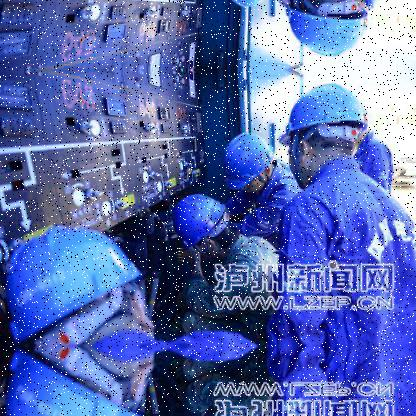Helmet: (2, 224, 168, 343), (0, 340, 166, 415), (272, 84, 372, 197), (283, 0, 381, 69), (164, 184, 242, 269), (212, 127, 282, 202)
